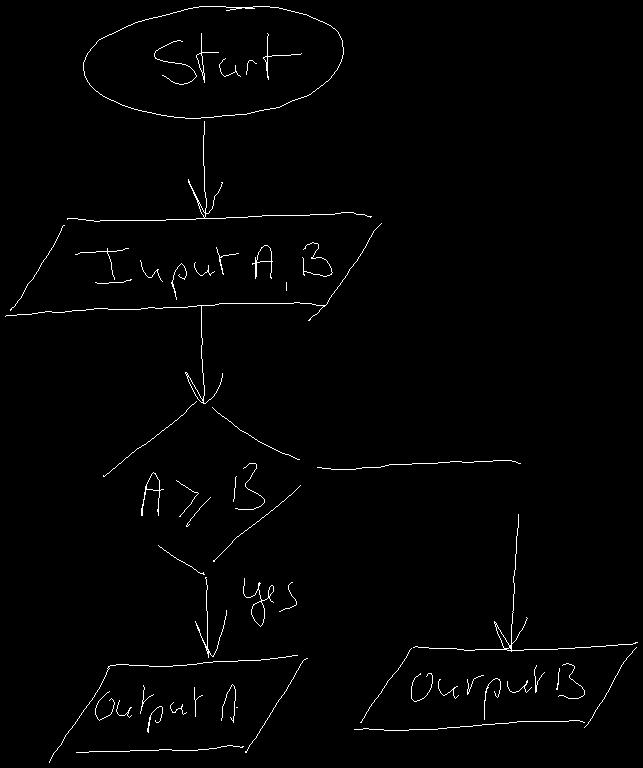arrow: (317, 460, 527, 651), (185, 306, 222, 403), (188, 121, 222, 217), (195, 577, 226, 657)
data: (5, 212, 381, 320), (49, 655, 307, 762), (354, 642, 637, 730)
decision: (103, 401, 300, 574)
terminator: (83, 6, 343, 118)
text: (75, 242, 332, 299), (411, 663, 584, 719), (141, 463, 264, 526), (154, 33, 301, 84), (95, 684, 237, 732), (243, 578, 296, 626)
